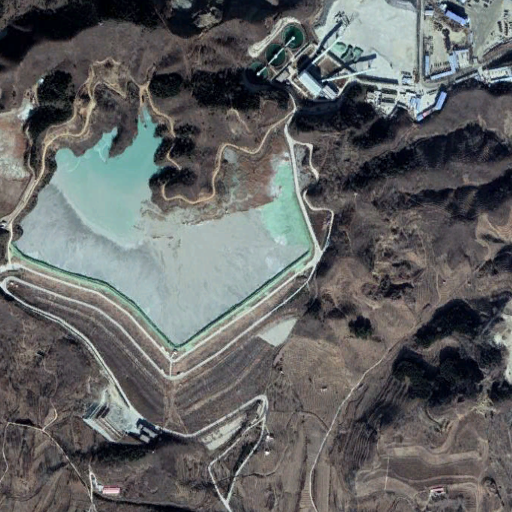tp: (15, 92, 330, 415)
